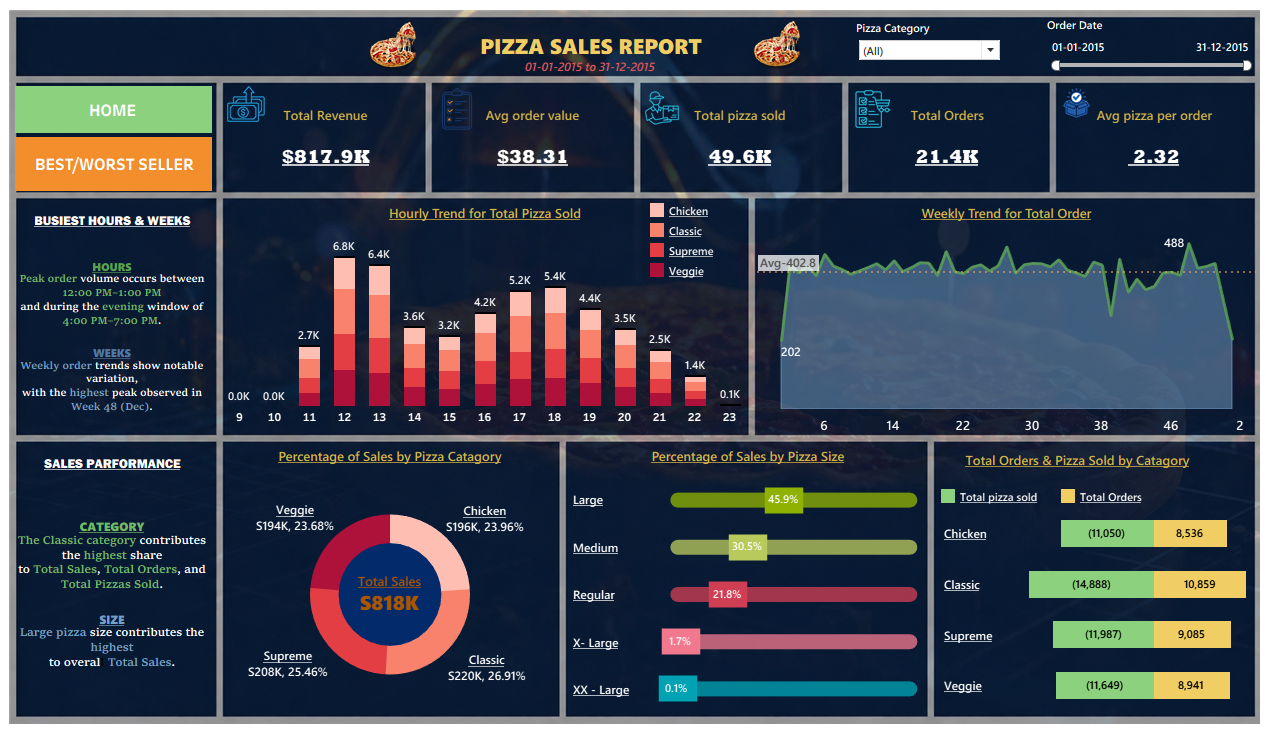

Layout of this report page (visuals, bound fields, positions):
{"tool":"powerbi","page":{"name":"HOME","canvas":[1500,820],"ordinal":0},"visuals":[{"type":"shape","box":[11.3,101.6,333.9,717.7],"z":0},{"type":"cardVisual","fields":{"Data":["pizza_sales.Total Revenue","pizza_sales.Total Orders","pizza_sales.Total pizza sold","pizza_sales.Avg order value","pizza_sales.Avg pizza per order"]},"box":[343.3,101.7,1143.3,205],"z":1000},{"type":"shape","box":[20,13.3,1460,83.3],"z":2000},{"type":"textbox","box":[513.3,26.7,471.7,55],"z":3000},{"type":"textbox","box":[628.3,60,243.3,41.7],"z":4000},{"type":"image","box":[524.2,27.4,72.6,53.2],"z":5000},{"type":"image","box":[911.3,27.4,72.6,53.2],"z":6000},{"type":"shape","box":[344,306,568,250],"z":7000},{"type":"columnChart","title":"Daily Trend for Total Orders","fields":{"Category":["pizza_sales.Order Day"],"Y":["pizza_sales.Total Orders"]},"box":[360,324,534,214],"z":8000},{"type":"shape","box":[922,306,564,250],"z":9000},{"type":"areaChart","title":"Monthly Trend for Total Orders","fields":{"Y":["pizza_sales.Total Orders"],"Category":["pizza_sales.Order Month"]},"box":[938,324,530,214],"z":10000},{"type":"shape","box":[345,556.7,385,263.3],"z":11000},{"type":"shape","box":[730,556.7,376.7,263.3],"z":12000},{"type":"shape","box":[1106.7,556.7,378.3,263.3],"z":13000},{"type":"donutChart","title":"Percentage of Pizza Category","fields":{"Category":["pizza_sales.pizza_category"],"Y":["pizza_sales.Total Revenue"]},"box":[361.7,570,355,233.3],"z":14000},{"type":"donutChart","title":"Percentage of Pizza Size","fields":{"Y":["pizza_sales.Total Revenue"],"Category":["pizza_sales.pizza_size"]},"box":[743.3,570,350,233.3],"z":15000},{"type":"funnel","title":"Pizza Sold By Category","fields":{"Category":["pizza_sales.pizza_category"],"Y":["pizza_sales.Total pizza sold"]},"box":[1123.3,570,346.7,233.3],"z":16000},{"type":"textbox","box":[19.4,246.8,316.1,43.5],"z":17000},{"type":"textbox","box":[19.4,290.3,316.1,217.7],"z":18000},{"type":"textbox","box":[21,533.9,316.1,43.5],"z":19000},{"type":"textbox","box":[19.4,577.4,316.1,217.7],"z":20000},{"type":"slicer","fields":{"Values":["pizza_sales.pizza_category"]},"box":[985.5,19.4,217.7,69.4],"z":21000},{"type":"slicer","fields":{"Values":["pizza_sales.order_date"]},"box":[1214.5,12.9,254.8,83.9],"z":22000},{"type":"pageNavigator","box":[21,122.6,312.9,51.6],"z":23000},{"type":"pageNavigator","box":[19.4,179,312.9,51.6],"z":24000},{"type":"shape","box":[253.6,123,79,51.6],"z":24001}]}

Visuals, with their boxes on the page's 1500x820 design canvas (x1, y1, x2, y2). These are canvas units, not pixel positions in the 1266x733 screenshot, which may show the page scaled, cropped or inside an application window:
shape: x1=11 y1=102 x2=345 y2=819
cardVisual - pizza_sales.Total Revenue x pizza_sales.Total Orders: x1=343 y1=102 x2=1487 y2=307
shape: x1=20 y1=13 x2=1480 y2=97
textbox: x1=513 y1=27 x2=985 y2=82
textbox: x1=628 y1=60 x2=872 y2=102
image: x1=524 y1=27 x2=597 y2=81
image: x1=911 y1=27 x2=984 y2=81
shape: x1=344 y1=306 x2=912 y2=556
"Daily Trend for Total Orders" columnChart: x1=360 y1=324 x2=894 y2=538
shape: x1=922 y1=306 x2=1486 y2=556
"Monthly Trend for Total Orders" areaChart: x1=938 y1=324 x2=1468 y2=538
shape: x1=345 y1=557 x2=730 y2=820
shape: x1=730 y1=557 x2=1107 y2=820
shape: x1=1107 y1=557 x2=1485 y2=820
"Percentage of Pizza Category" donutChart: x1=362 y1=570 x2=717 y2=803
"Percentage of Pizza Size" donutChart: x1=743 y1=570 x2=1093 y2=803
"Pizza Sold By Category" funnel: x1=1123 y1=570 x2=1470 y2=803
textbox: x1=19 y1=247 x2=336 y2=290
textbox: x1=19 y1=290 x2=336 y2=508
textbox: x1=21 y1=534 x2=337 y2=577
textbox: x1=19 y1=577 x2=336 y2=795
slicer - pizza_sales.pizza_category: x1=986 y1=19 x2=1203 y2=89
slicer - pizza_sales.order_date: x1=1214 y1=13 x2=1469 y2=97
pageNavigator: x1=21 y1=123 x2=334 y2=174
pageNavigator: x1=19 y1=179 x2=332 y2=231
shape: x1=254 y1=123 x2=333 y2=175
